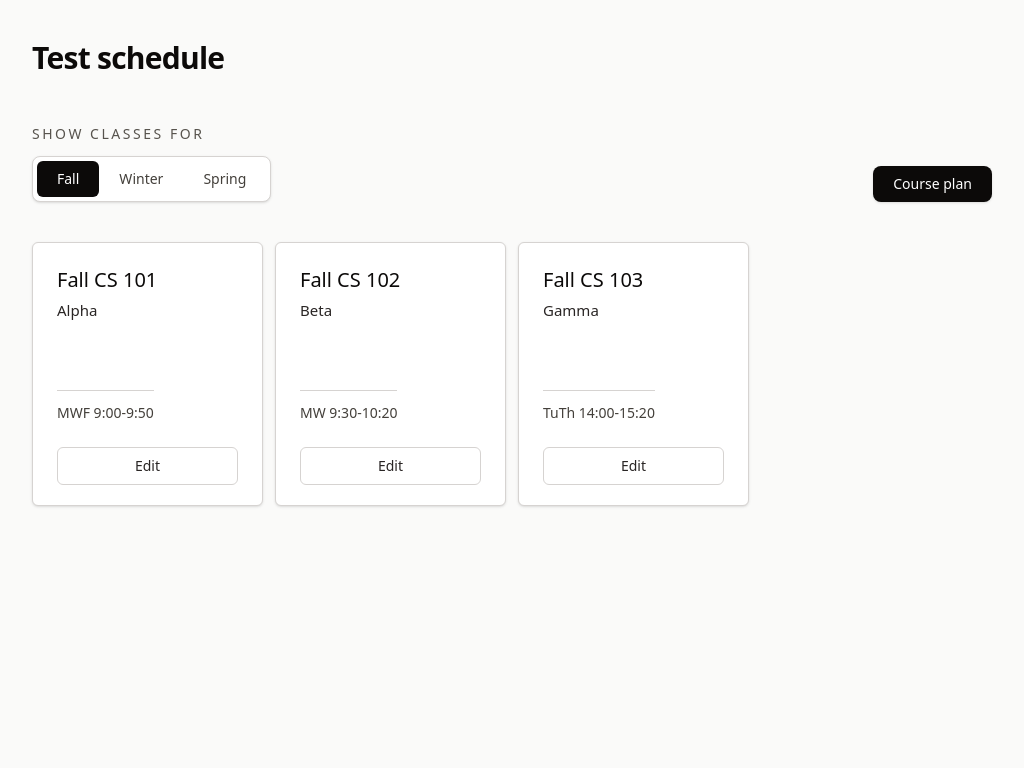
it: TermPage time conflicts › opens a course form with the selected course data and cancels back to the list
Click the 1st button "Edit" at (148, 466), box [57, 447, 238, 485]
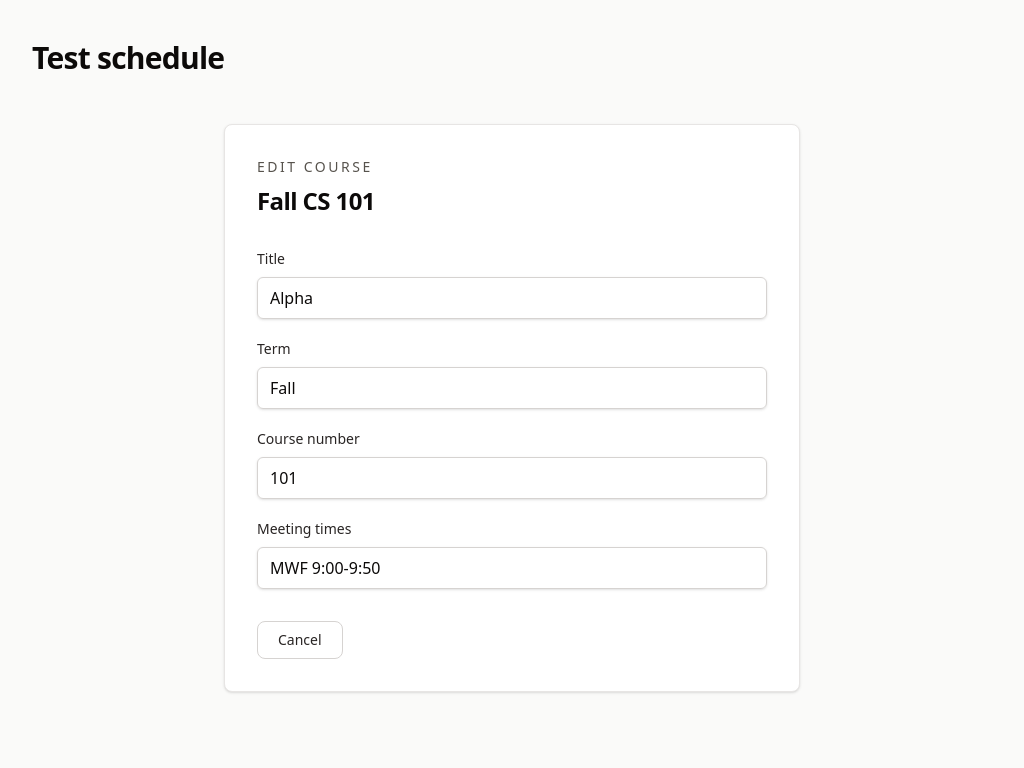
Expected: the field labelled "Title" holds "Alpha", [257, 277, 767, 319]
Expected: the field labelled "Meeting times" holds "MWF 9:00-9:50", [257, 547, 767, 589]
Expected: the button "Course plan" is gone
Click the button "Cancel" at (300, 640), box [257, 621, 343, 659]
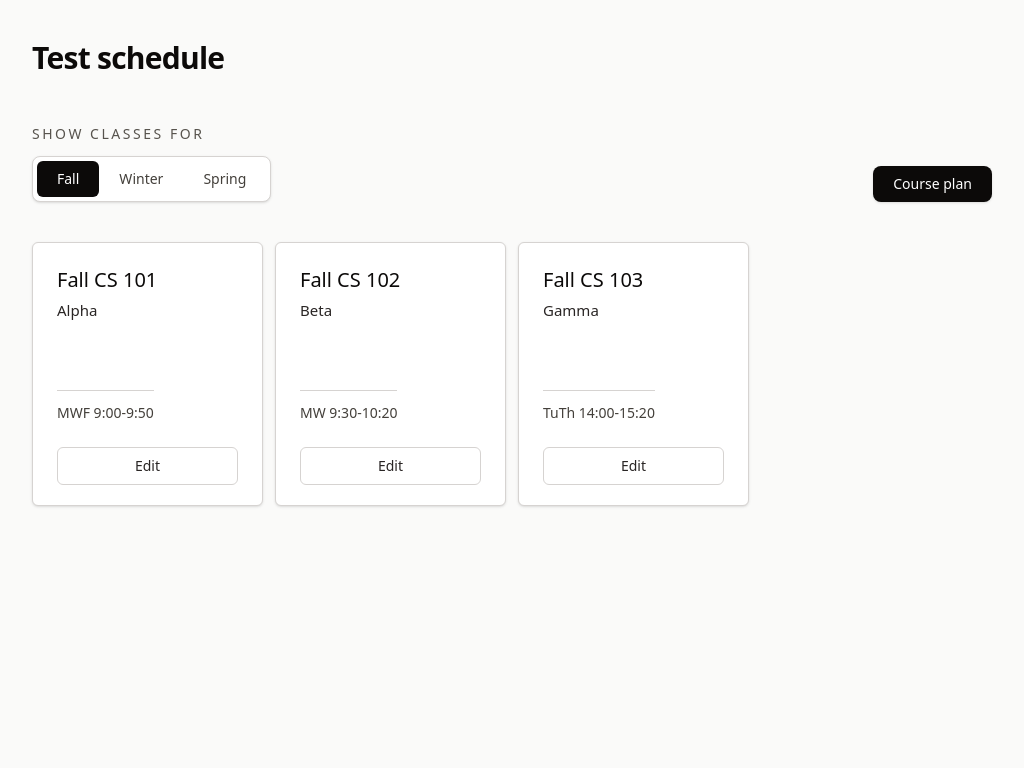
Expected: the button with aria-label "Fall CS 101: Alpha" is shown, [33, 243, 262, 447]
Expected: the text labelled "Meeting times" is gone
